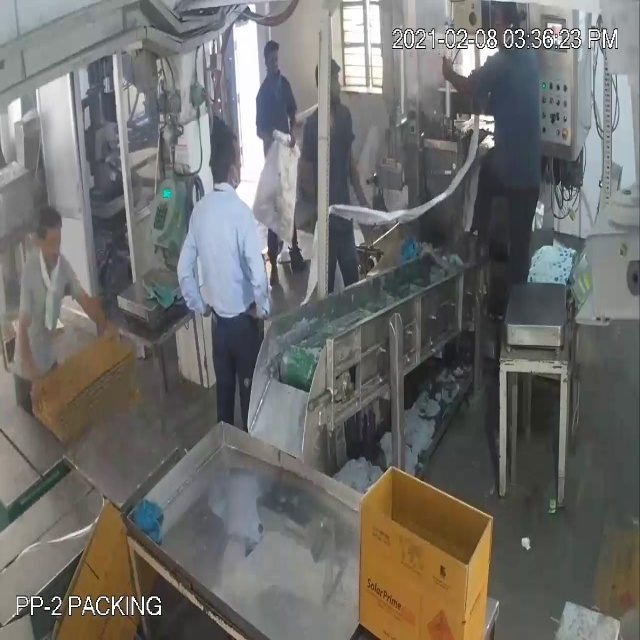Sin_guantes: (170, 219, 216, 321), (11, 294, 52, 404), (68, 270, 123, 346), (342, 135, 386, 224), (242, 215, 276, 326), (435, 56, 502, 97)
